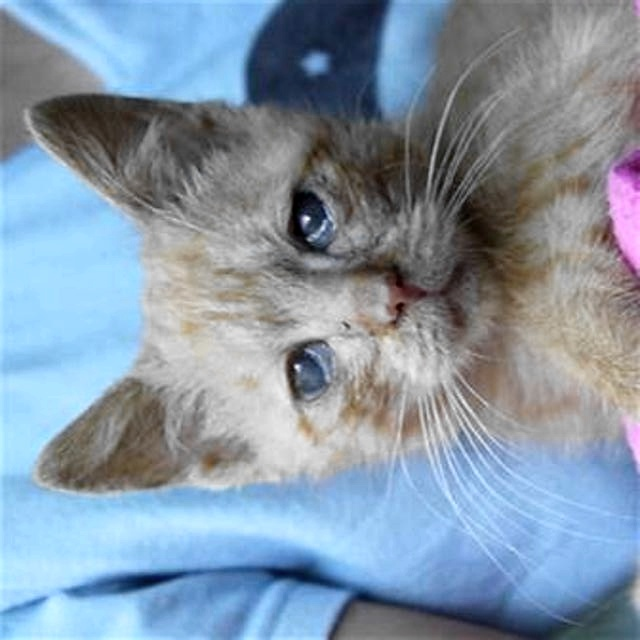eye_infection: (283, 171, 338, 253), (278, 341, 336, 409)
